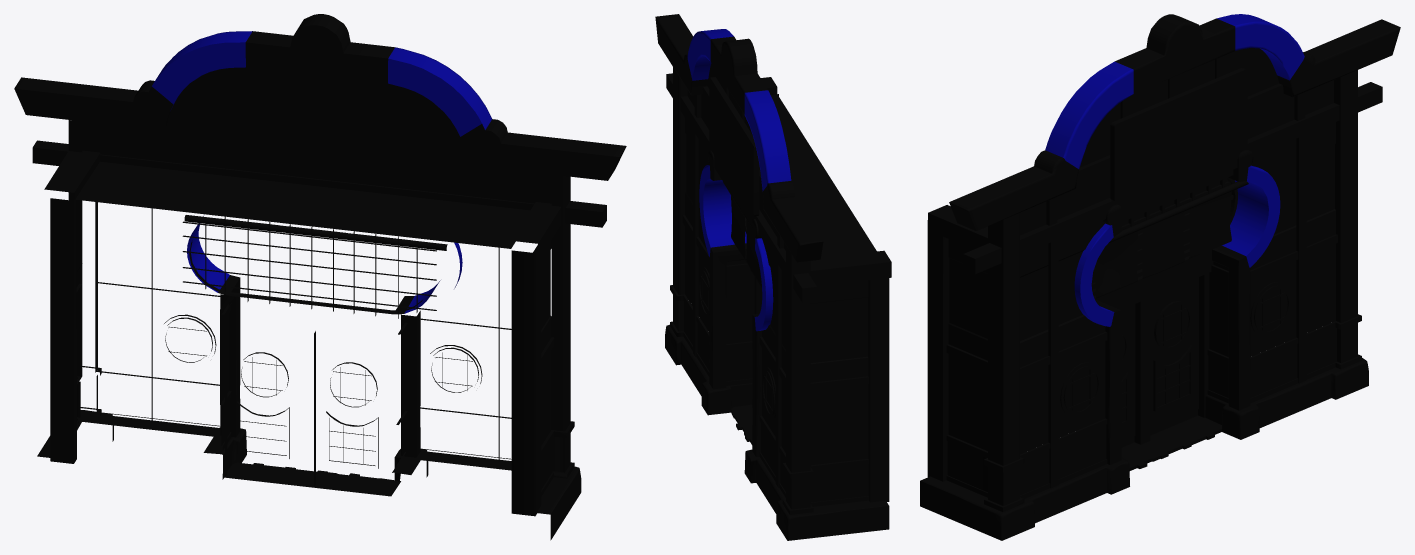
File: SM_ENV_LKNVLD_Shop_Front_Lod1.gltf
3 views of the same model, side by side, from view 1: azimuth 30°, elevation 25°; view 2: azimuth 150°, elevation 25°; view 3: azimuth 270°, elevation 25° (orthographic). The views are drawn at different scales.
Visible parts, largest first — view 1: SM_ENV_LKNVLD_Shop_Front_Lod1; view 2: SM_ENV_LKNVLD_Shop_Front_Lod1; view 3: SM_ENV_LKNVLD_Shop_Front_Lod1.
Part boxes in pixels (bbox=[...]): SM_ENV_LKNVLD_Shop_Front_Lod1: bbox=[14, 14, 626, 540]; SM_ENV_LKNVLD_Shop_Front_Lod1: bbox=[655, 14, 891, 540]; SM_ENV_LKNVLD_Shop_Front_Lod1: bbox=[920, 14, 1400, 540].
Size of the model in its own units: 8.9 by 8.98 by 8.9.
